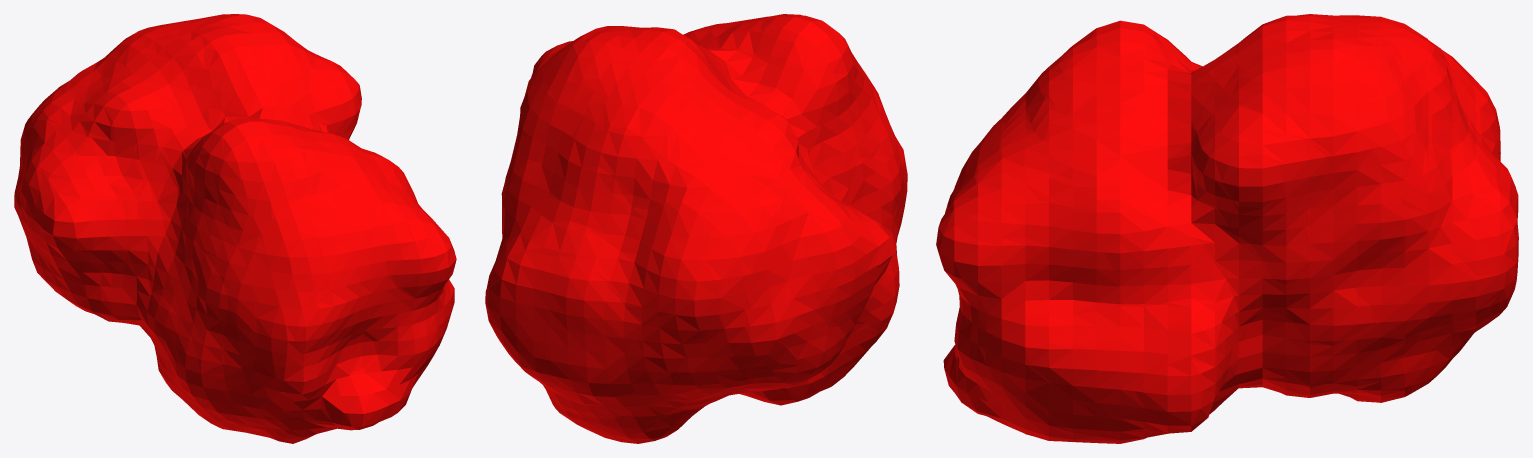
File: aroA_coarse.dae
The picture shows the model from 3 angles, left to right: view 1: azimuth 30°, elevation 25°; view 2: azimuth 150°, elevation 25°; view 3: azimuth 270°, elevation 25°; orthographic projection. The views are drawn at different scales.
Parts seen in each view (by area): view 1: aroA; view 2: aroA; view 3: aroA.
Part boxes in pixels (x1,y1,x2,y2): aroA: (14, 14, 456, 443); aroA: (485, 14, 907, 443); aroA: (936, 14, 1518, 443).
Bounding box in the file's own units: 53 × 51.45 × 66.45.
